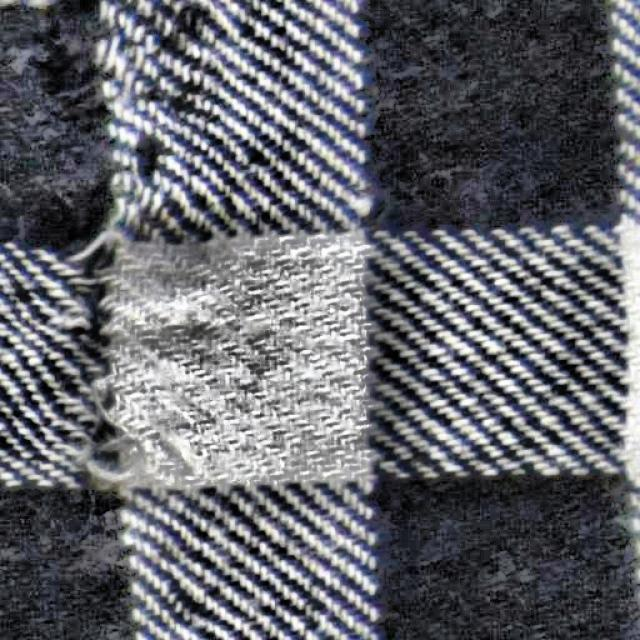Stitch: (27, 231, 177, 502), (21, 21, 188, 210)
